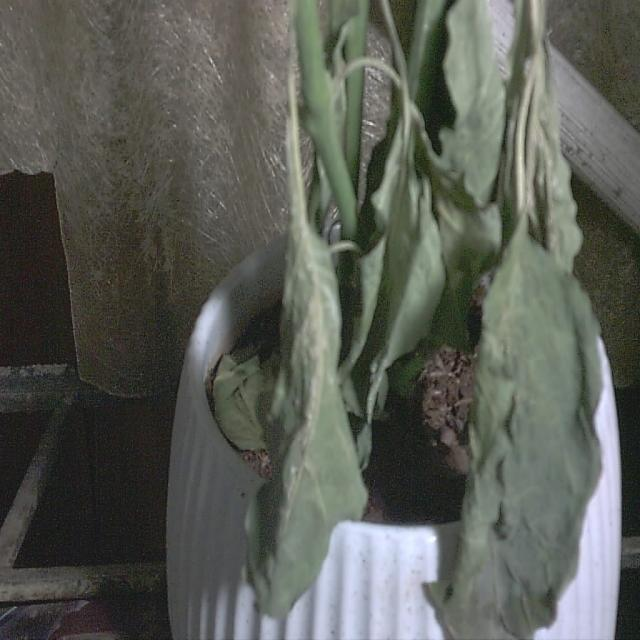Leaf: (424, 243, 603, 640), (242, 208, 368, 621)
